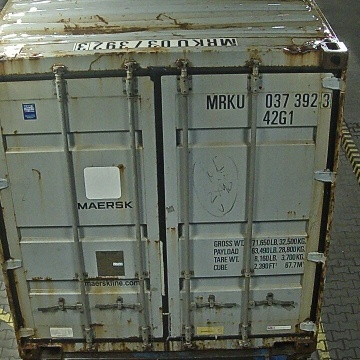serial_id: (207, 92, 331, 108)
